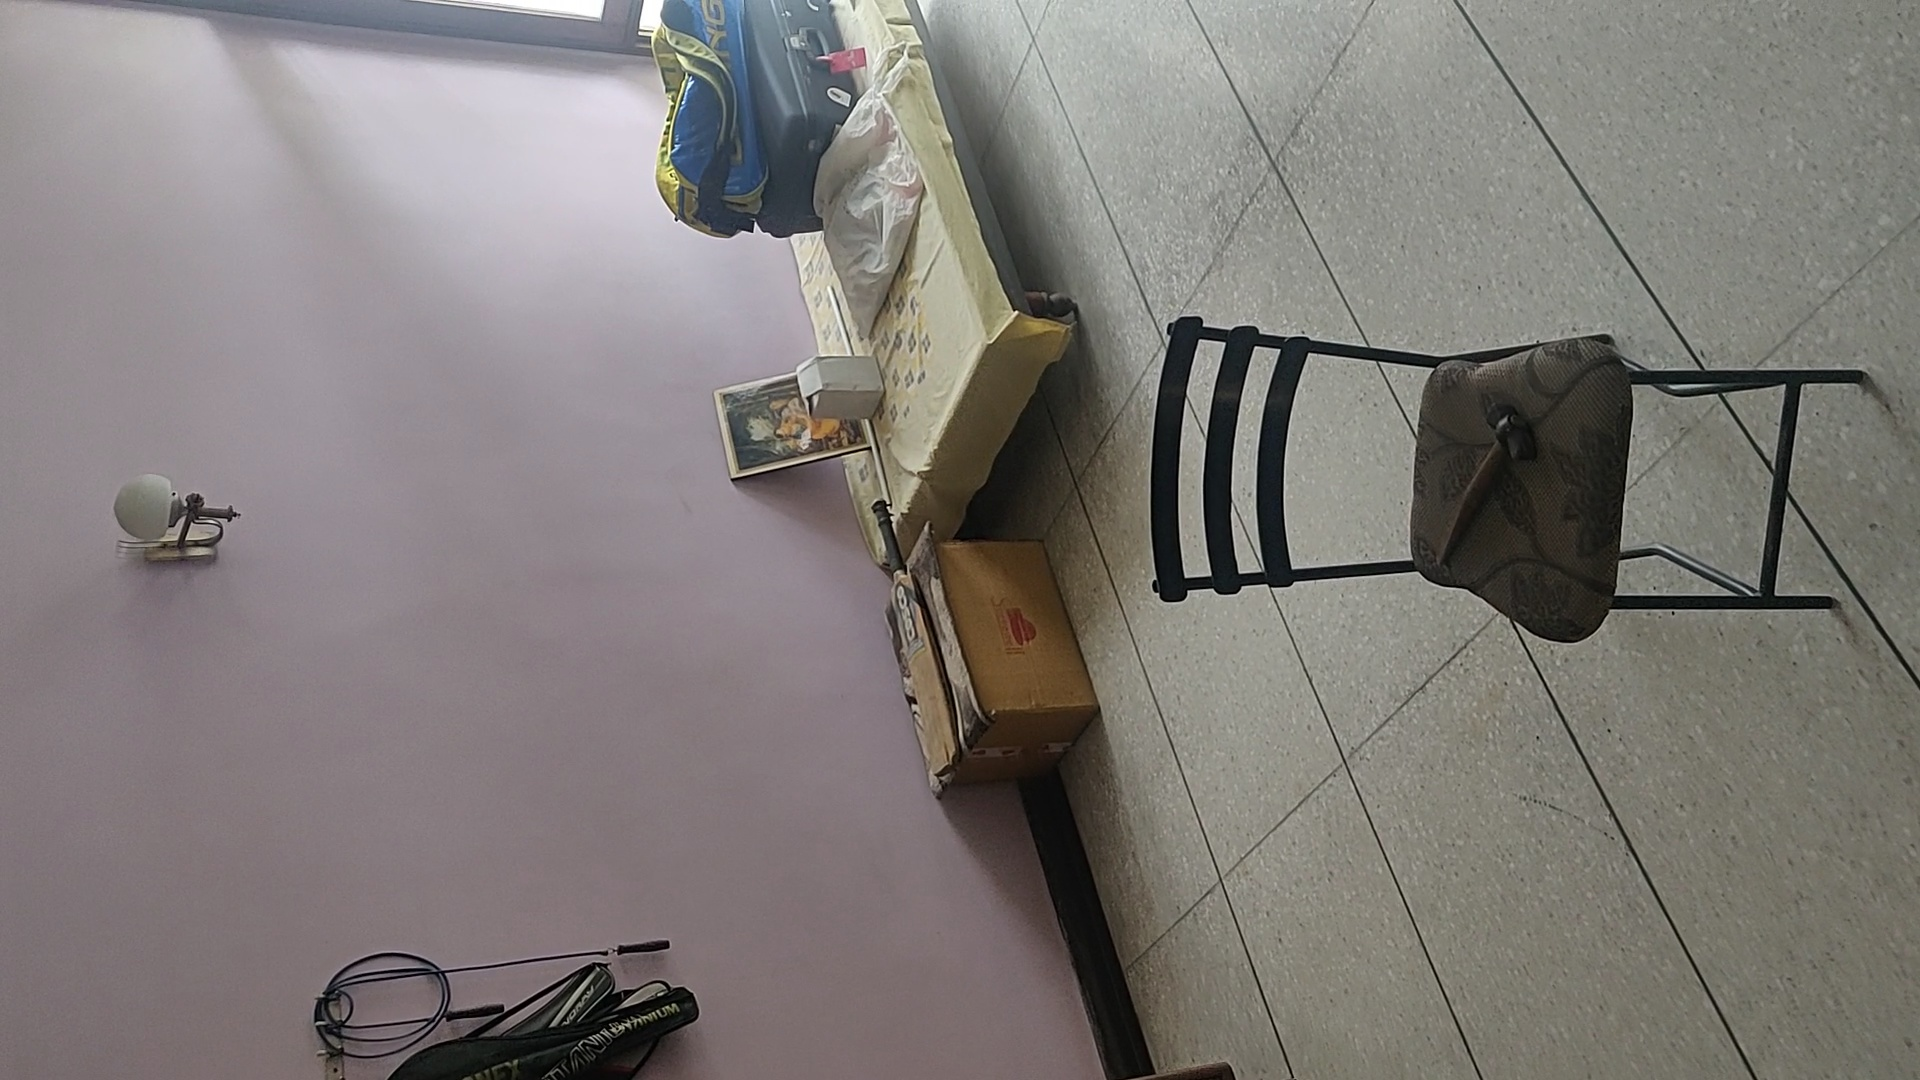hammer: (1431, 402, 1538, 568)
